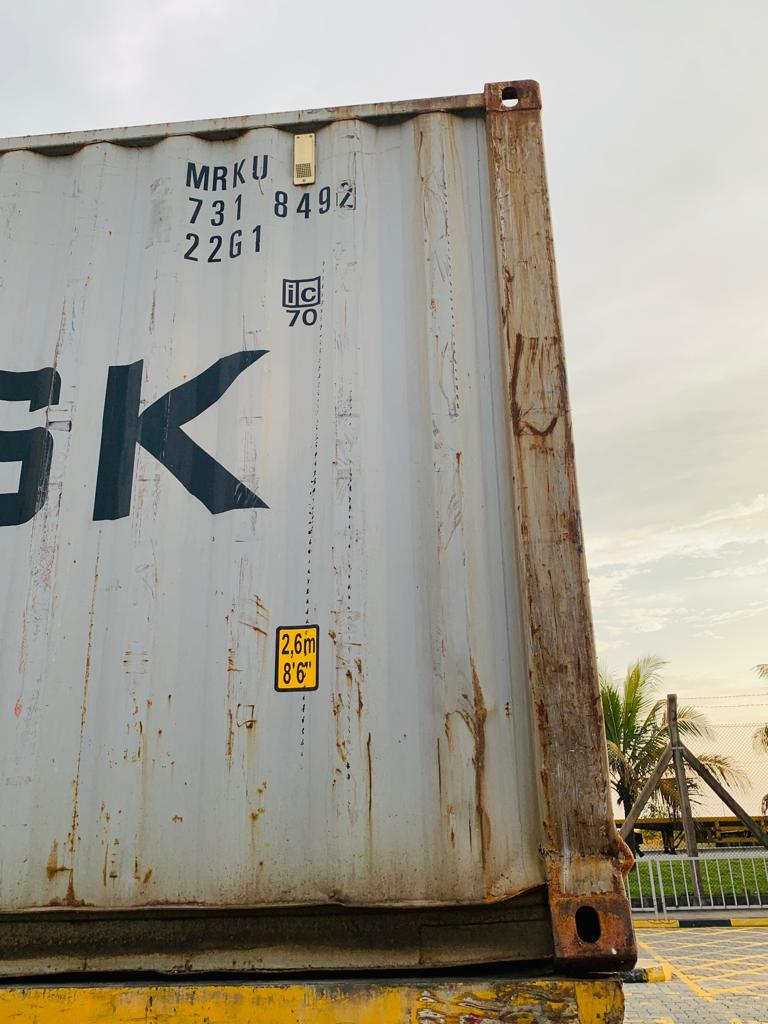minor: (436, 656, 498, 879), (325, 653, 383, 842), (42, 809, 157, 898)
moderate: (524, 801, 638, 886)
